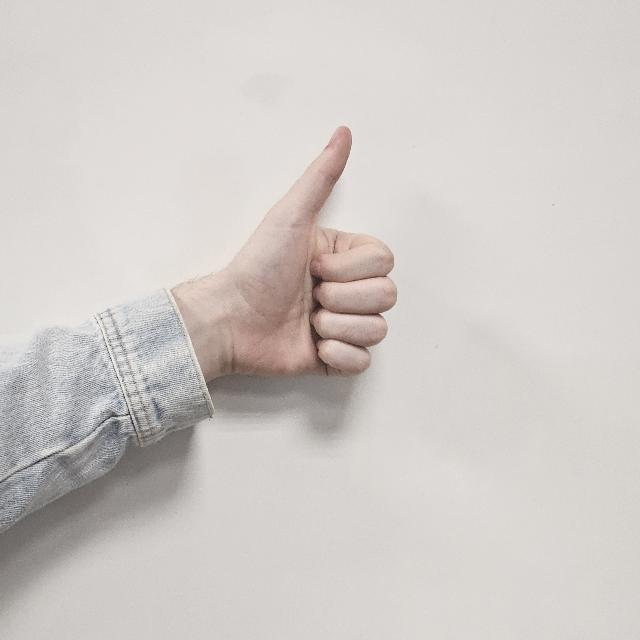Start: (168, 120, 394, 420)
